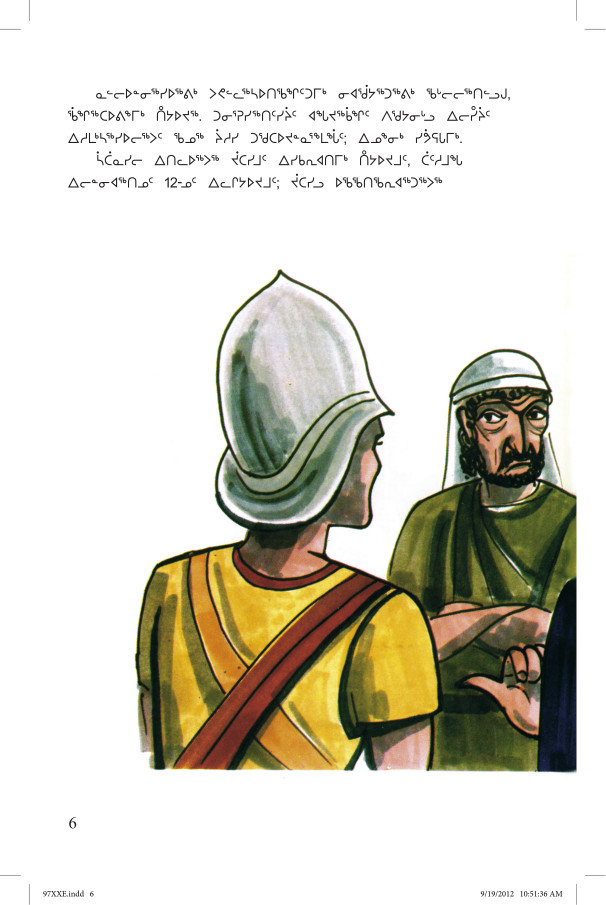inuktitut: (57, 80, 518, 195)
